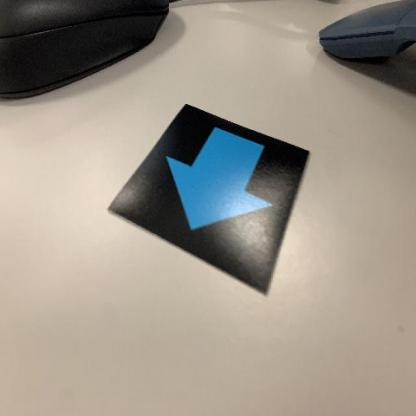down: (105, 103, 313, 299)
